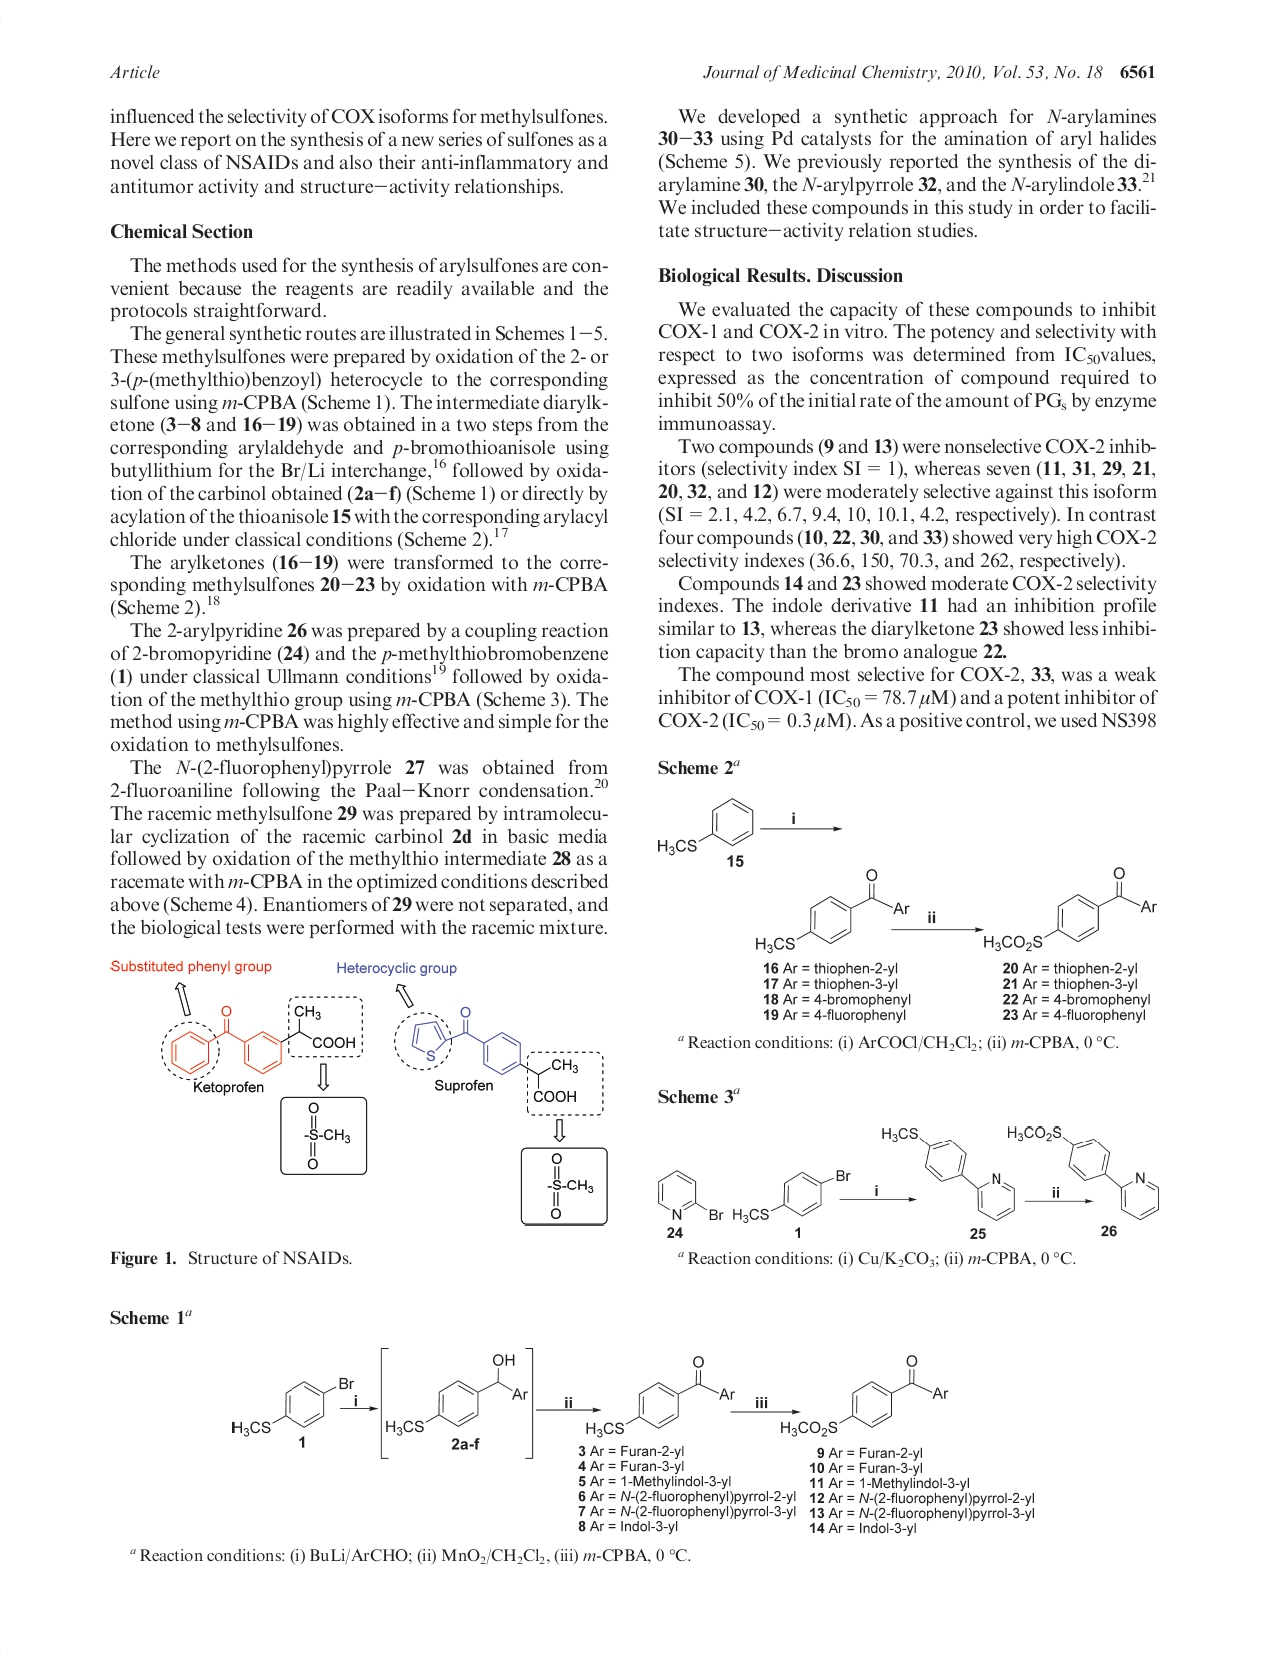exist_molecular: (411, 1005, 581, 1106), (1001, 1116, 1162, 1222), (981, 866, 1164, 956), (753, 866, 910, 956), (779, 1355, 949, 1438), (876, 1122, 1016, 1221), (168, 1003, 358, 1075), (383, 1352, 531, 1438), (584, 1355, 735, 1438), (656, 1162, 854, 1223), (227, 1371, 358, 1442), (658, 795, 755, 860), (537, 1153, 596, 1220)
